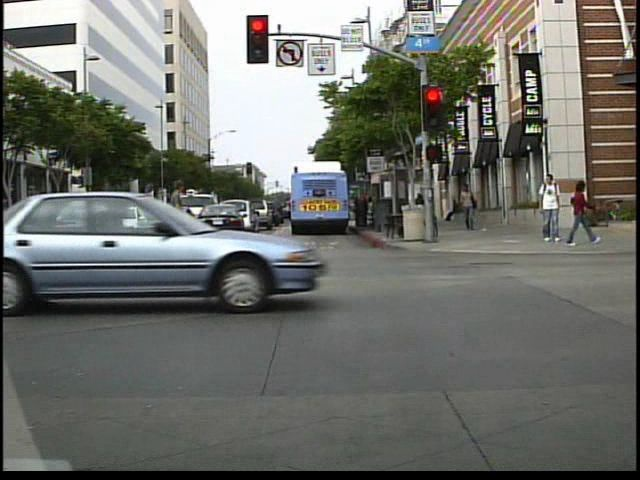person: (565, 176, 597, 247)
